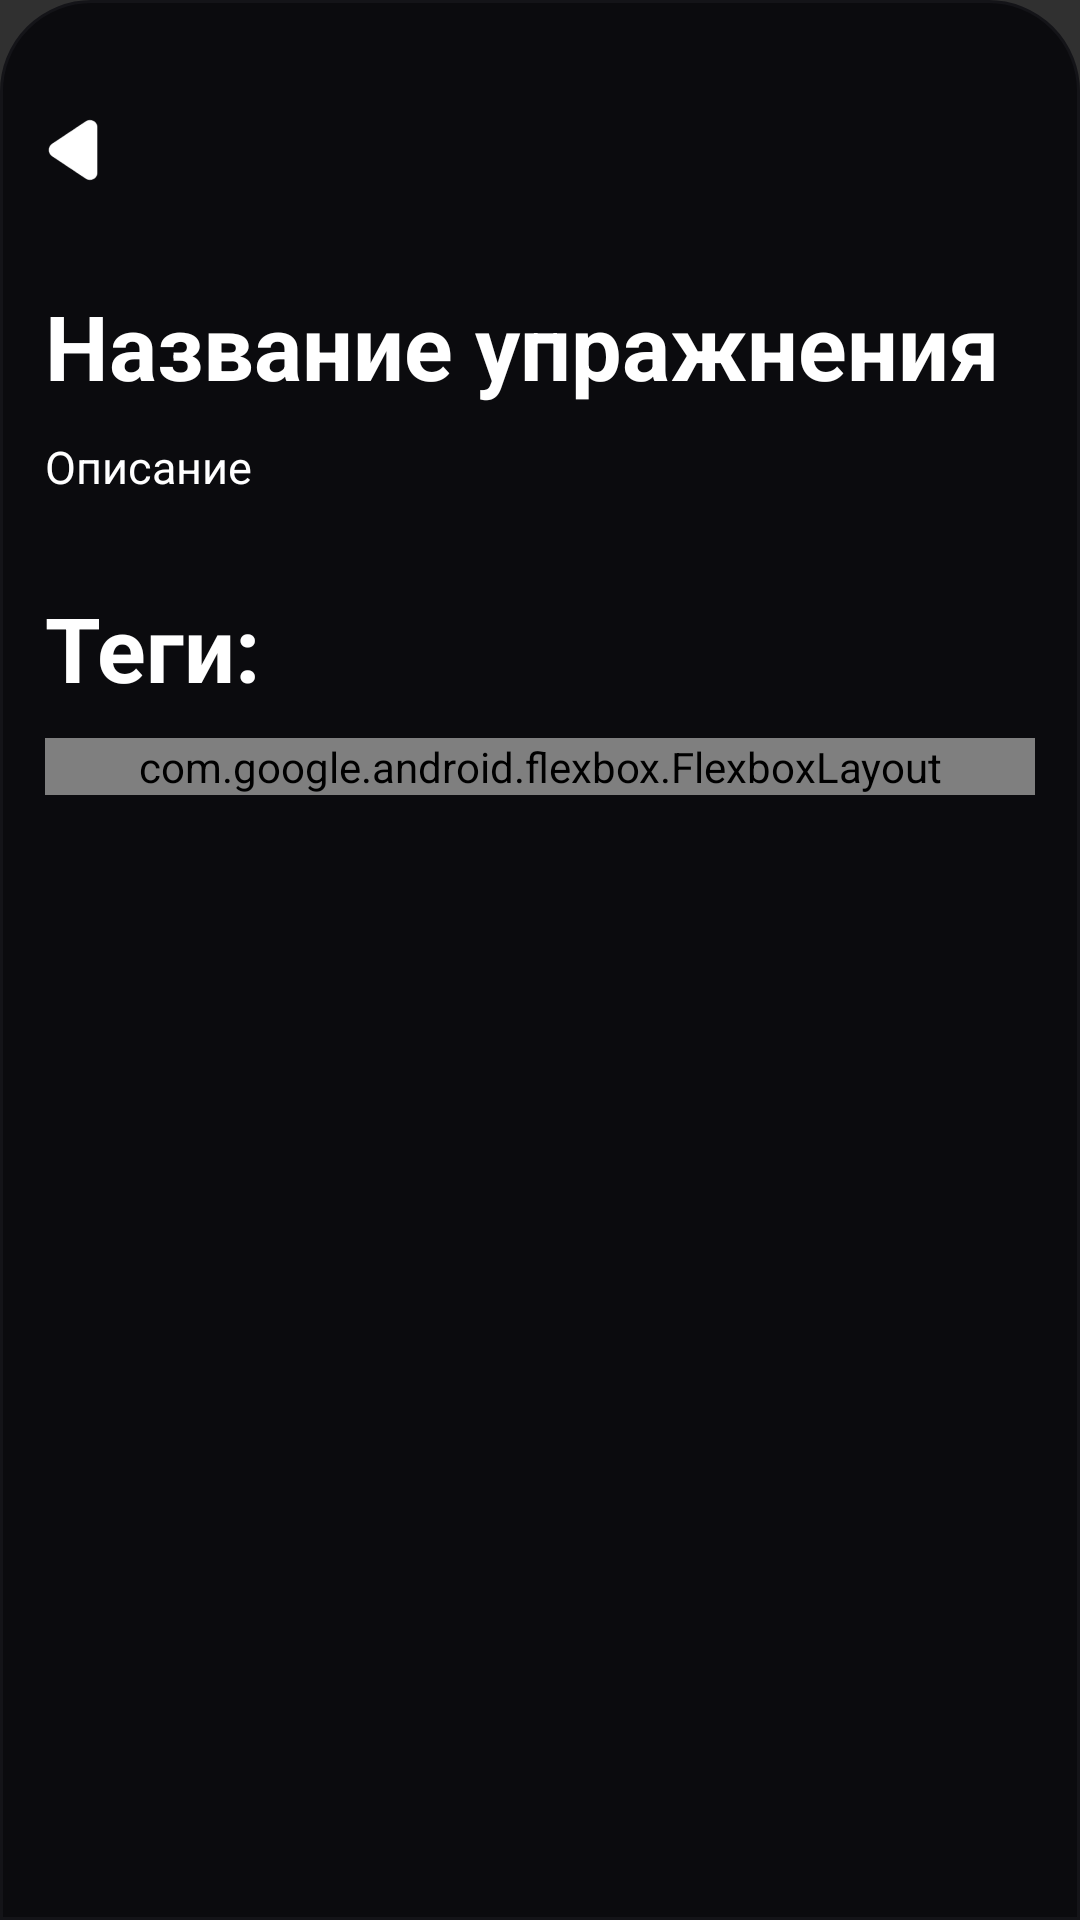

Icon bounding boxes for this 1080px x 1920px phone screenshot, format [x1=x1, y1=y1, x2=x2, y2=y2]:
back: [x1=48, y1=120, x2=98, y2=180]
